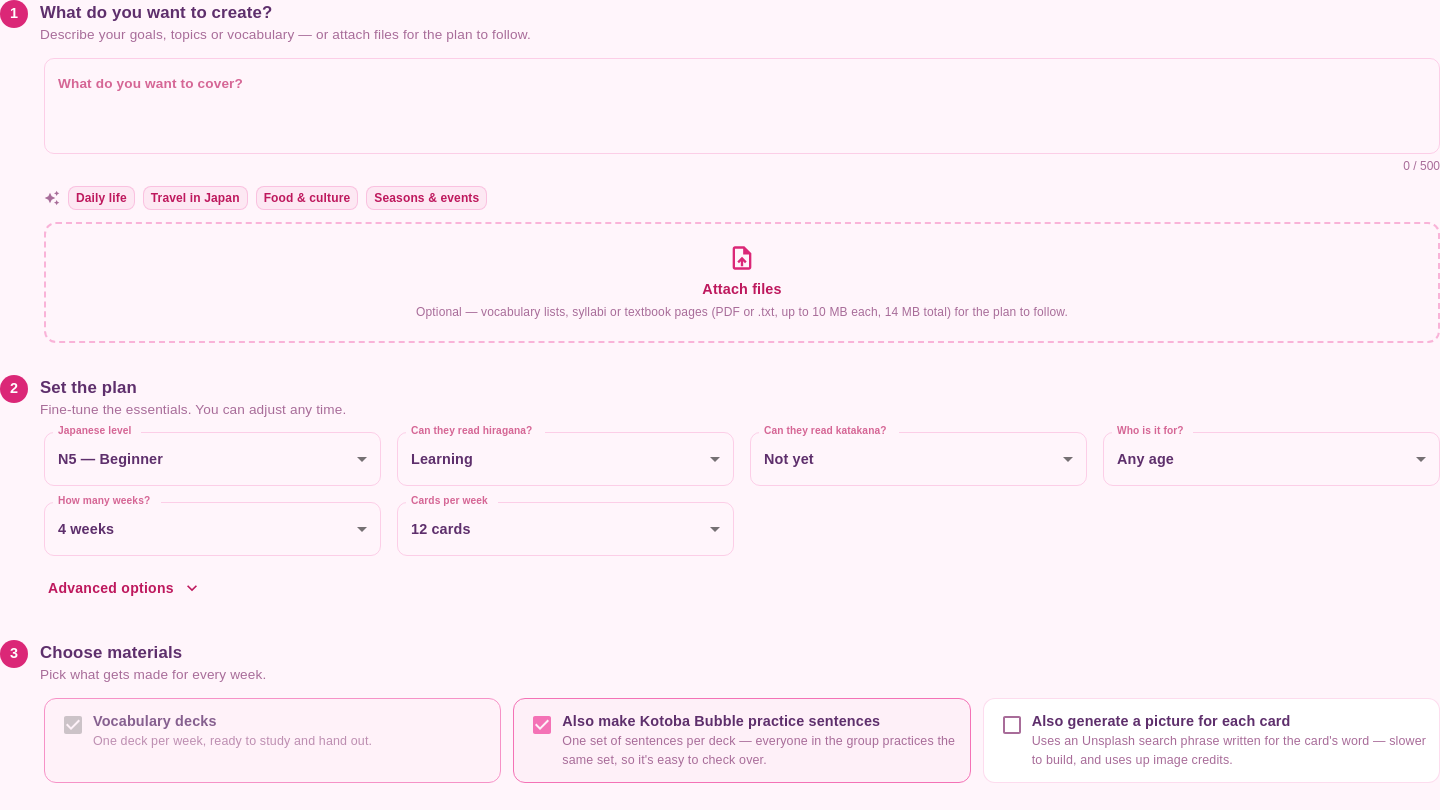
Test: LessonSetBuilder review step › shows the skipped note under an unticked card
The image size is (1440, 810).
Replace the text in the text box labelled "What do you want to cover?" with "Food words" at (742, 106), box 58,74 -> 1426,137
(page scrolled)
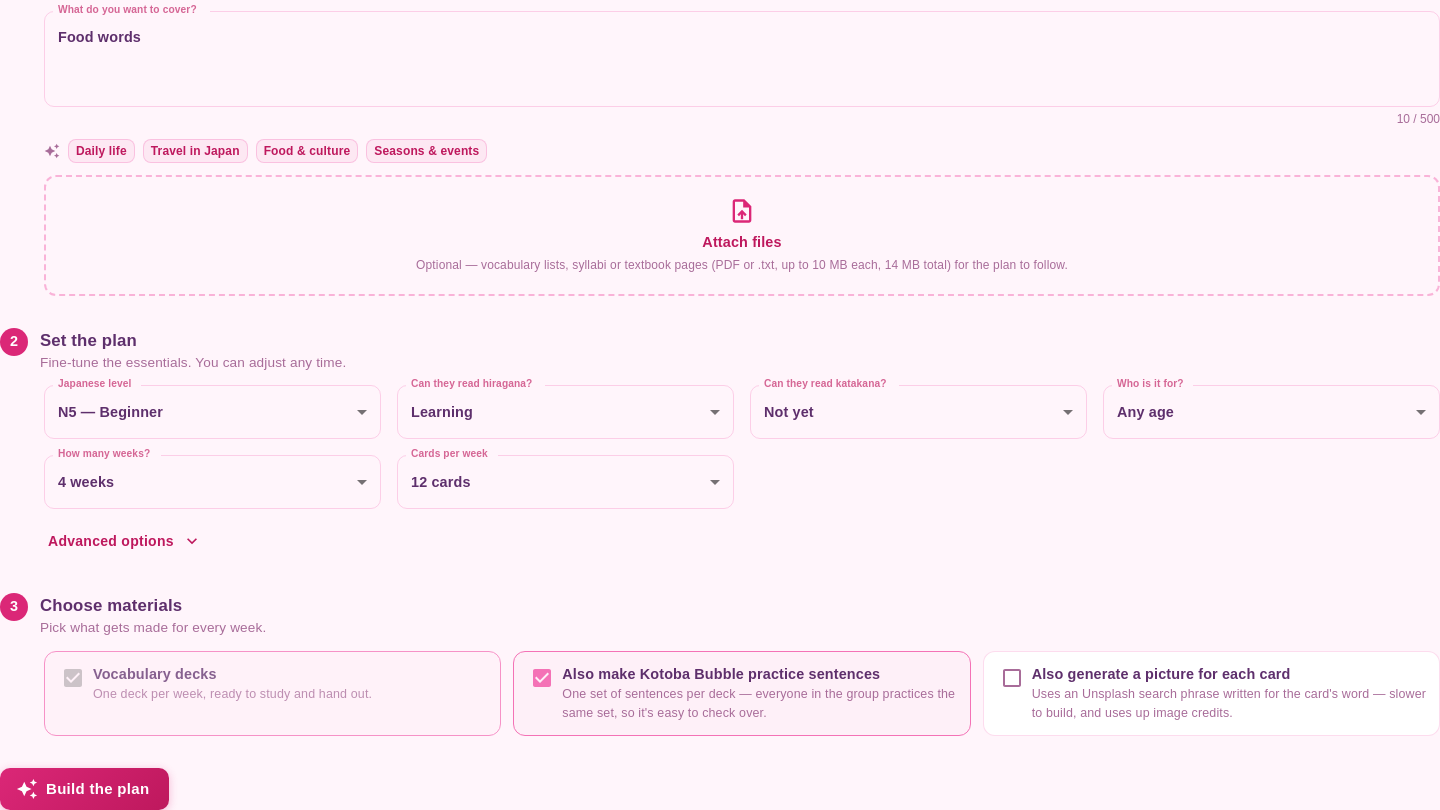
Click the button "Build the plan" at (85, 789), box 0,768 -> 169,809
(page scrolled)
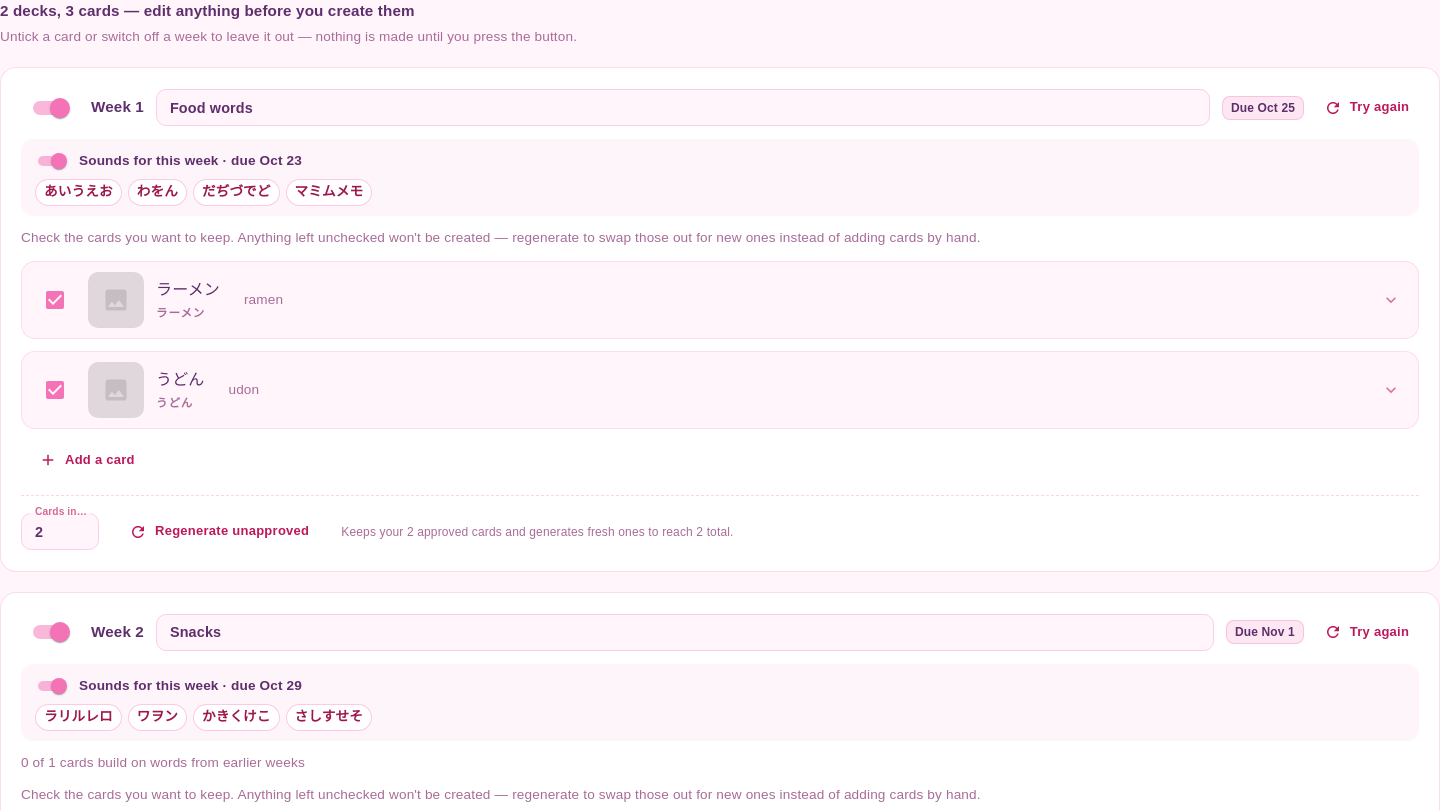
Result: the field showing "Food words" next to "Week 1" is shown at 156,89 -> 1210,126
Result: the field showing "Snacks" next to "Week 2" is shown at 156,614 -> 1214,651
Click the checkbox named "Approve うどん" at (55, 390), box 43,378 -> 67,402
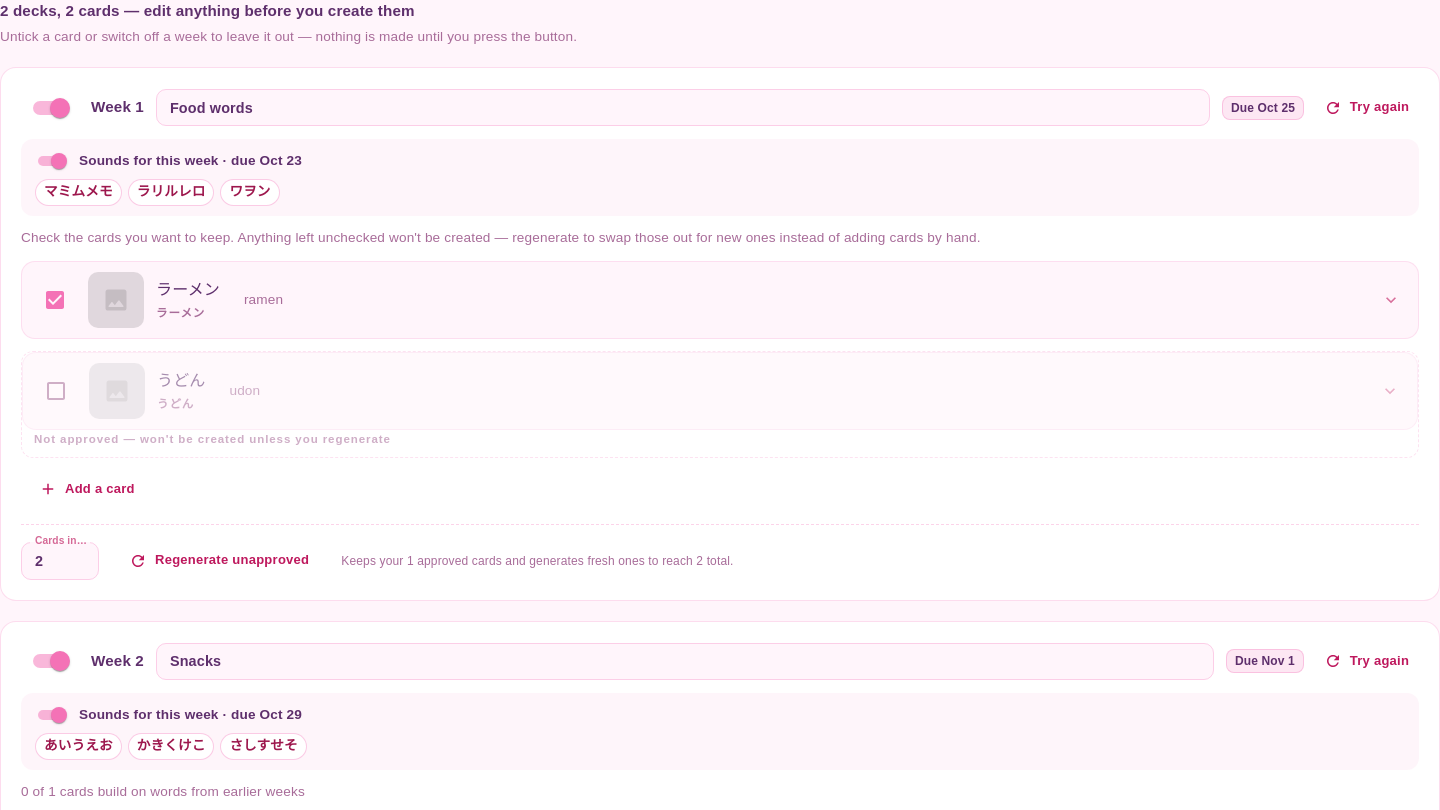
Result: the text "Not approved — won't be created unless you regenerate" is shown at 34,432 -> 391,444
